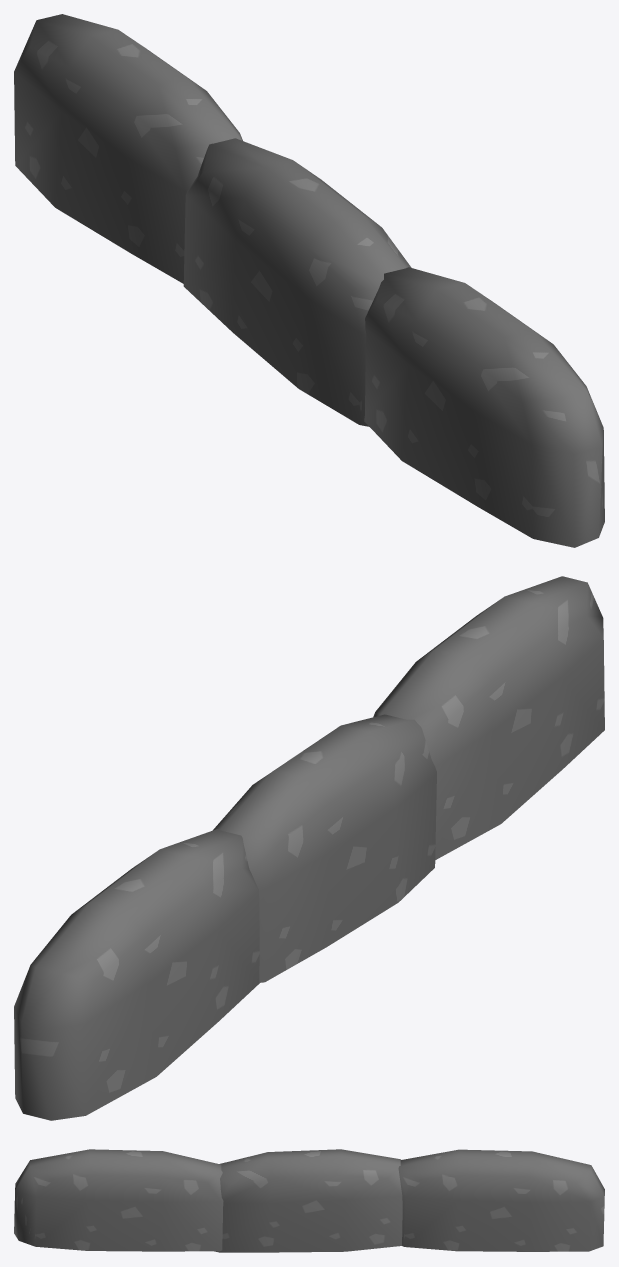
The model's file is wall.glb.
3 renders of one model, top to bottom at view 1: azimuth 30°, elevation 25°; view 2: azimuth 150°, elevation 25°; view 3: azimuth 270°, elevation 25°, orthographic. The views are drawn at different scales.
Parts seen in each view (by area): view 1: Object_28.212, Object_28.275, Object_28.270, Object_28.277, Object_28.278, Object_28.216, Object_28.276, Object_28.271, Object_28.279, Object_28.274, Object_28.213, Object_28.272; view 2: Object_28.270, Object_28.212, Object_28.275, Object_28.279, Object_28.274, Object_28.216, Object_28.276, Object_28.271; view 3: Object_28.275, Object_28.270, Object_28.212, Object_28.216, Object_28.274, Object_28.279, Object_28.276, Object_28.271, Object_28.213.
Part boxes in pixels (x1,y1,x2,y2): Object_28.212: (183,138,411,426); Object_28.275: (364,267,604,538); Object_28.270: (14,14,242,283); Object_28.277: (522,398,574,547); Object_28.278: (573,447,602,547); Object_28.216: (265,160,362,222); Object_28.276: (505,331,586,398); Object_28.271: (158,77,239,143); Object_28.279: (436,283,532,337); Object_28.274: (90,29,185,83); Object_28.213: (335,215,405,278); Object_28.272: (175,145,208,202); Object_28.270: (14,836,259,1120); Object_28.212: (213,719,436,982); Object_28.275: (373,582,604,859); Object_28.279: (435,596,532,656); Object_28.274: (91,849,187,909); Object_28.216: (273,725,368,777); Object_28.276: (505,576,587,603); Object_28.271: (160,829,241,856); Object_28.275: (15,1151,223,1251); Object_28.270: (398,1151,604,1251); Object_28.212: (220,1149,402,1252); Object_28.216: (267,1149,341,1159); Object_28.274: (458,1149,532,1158); Object_28.279: (89,1149,163,1158); Object_28.276: (30,1149,89,1166); Object_28.271: (399,1149,458,1166); Object_28.213: (219,1152,267,1170).
Bounding box in the file's own units: 0.924 × 1.57 × 9.17.
1 material, 1 textured.
